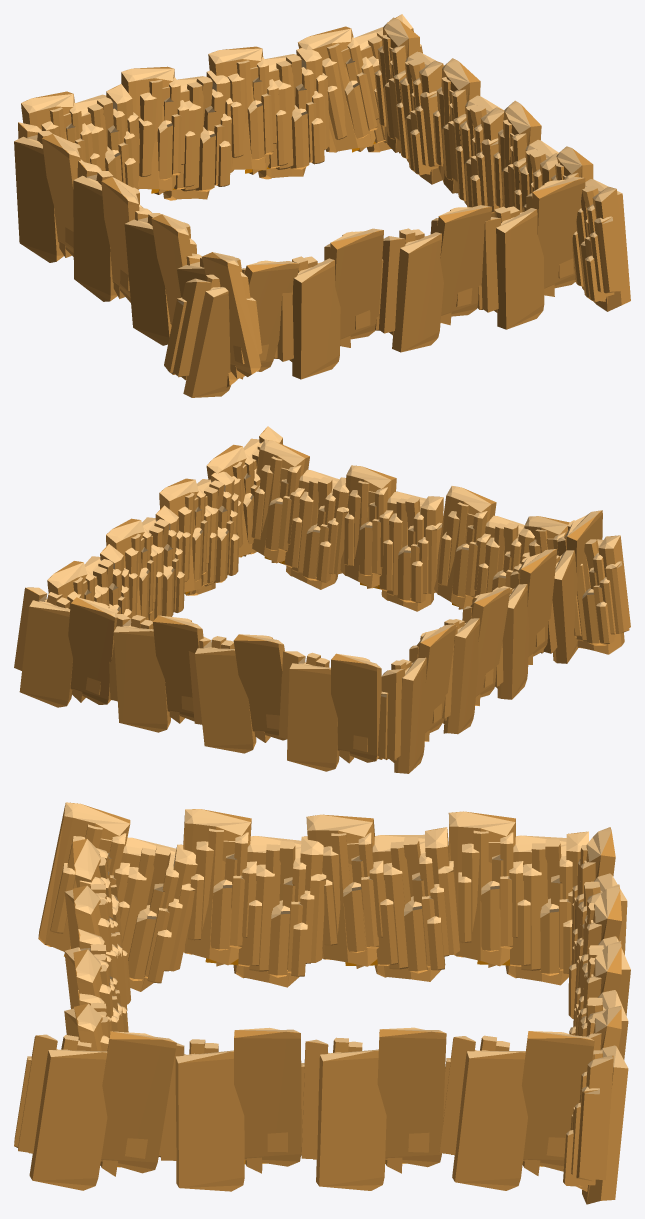
File: Montain.fbx
The picture shows the model from 3 angles, top to bottom: view 1: azimuth 30°, elevation 25°; view 2: azimuth 150°, elevation 25°; view 3: azimuth 270°, elevation 25°; orthographic projection. The views are drawn at different scales.
Parts seen in each view (by area): view 1: model.004; view 2: model.004; view 3: model.004.
Boxes of the visible parts, x1,y1,x2,y2 form: model.004: (14, 14, 630, 397); model.004: (14, 426, 630, 773); model.004: (14, 802, 630, 1204).
Bounding box in the file's own units: 347 × 105 × 332.
